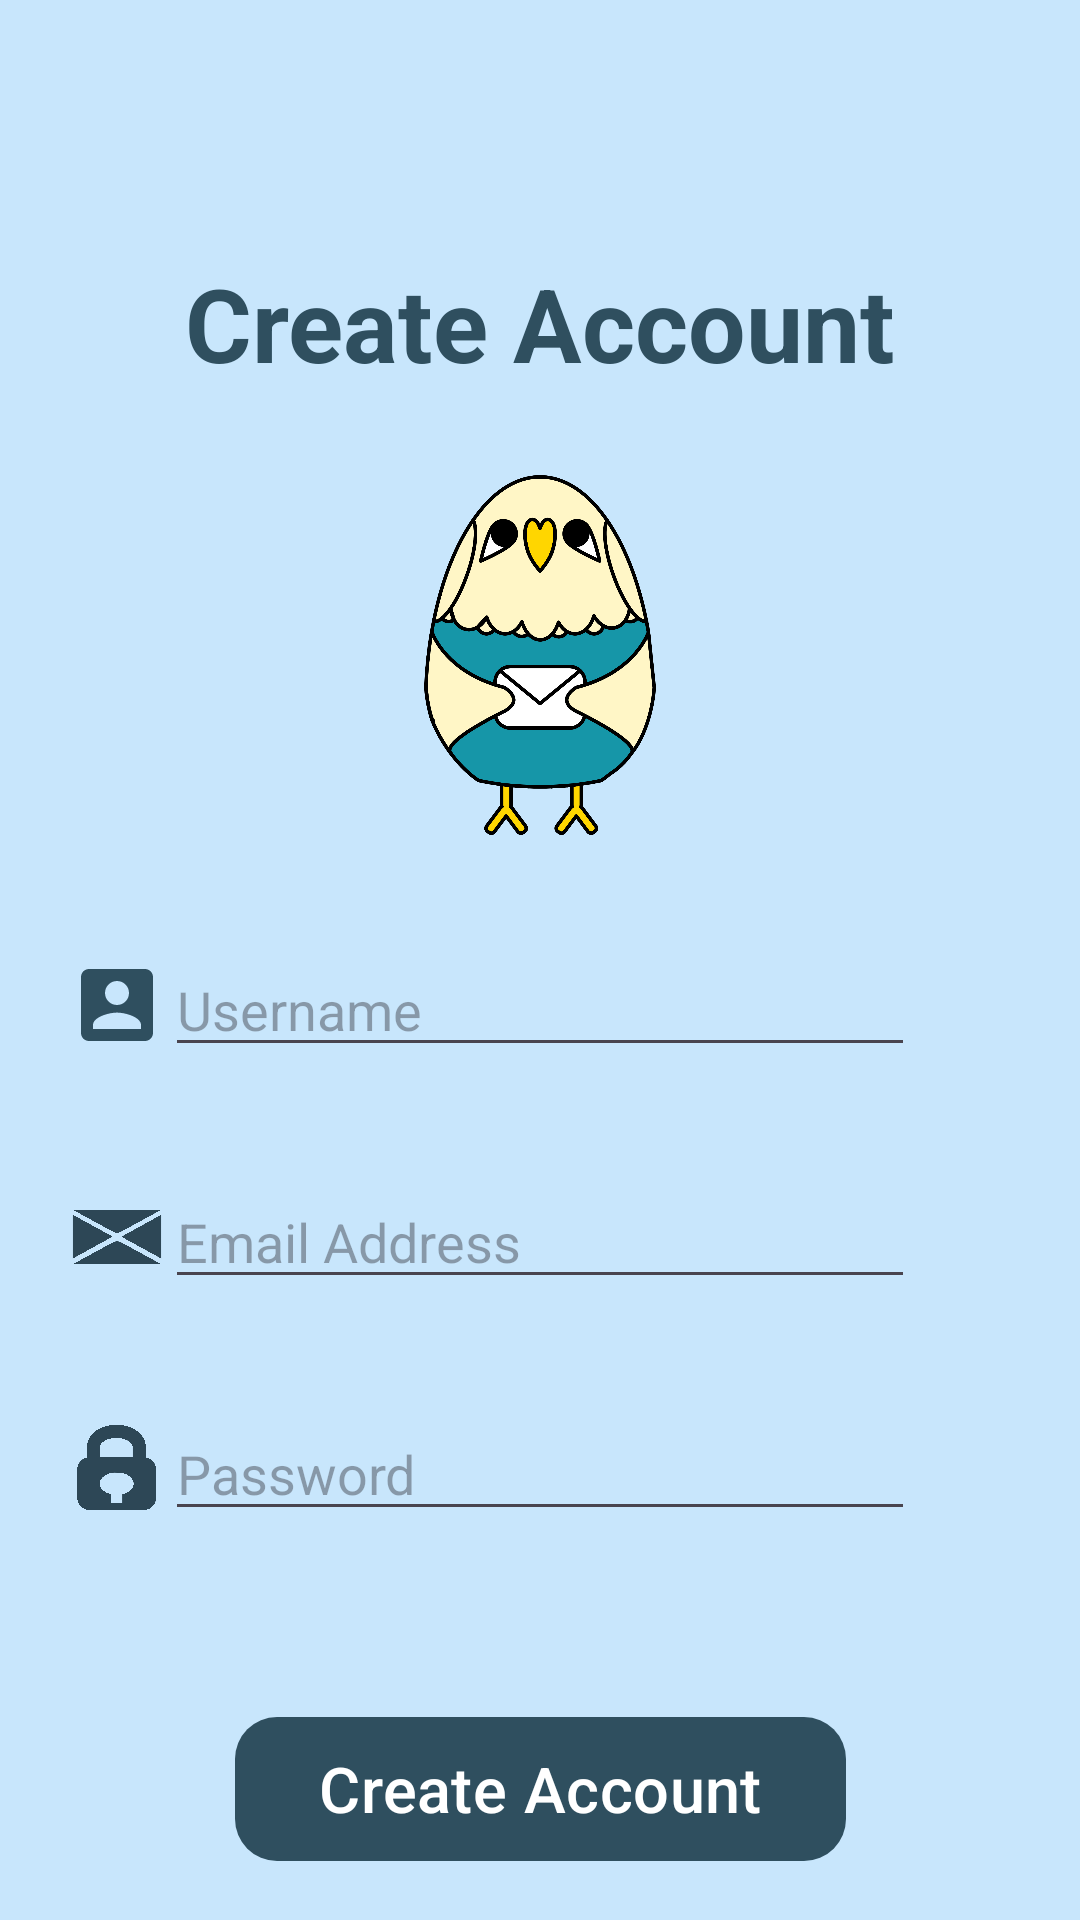

Where icons sit on this 1080×1920 app screen, as (x1, y1, x2, y2):
User Icon: (81, 969, 153, 1041)
